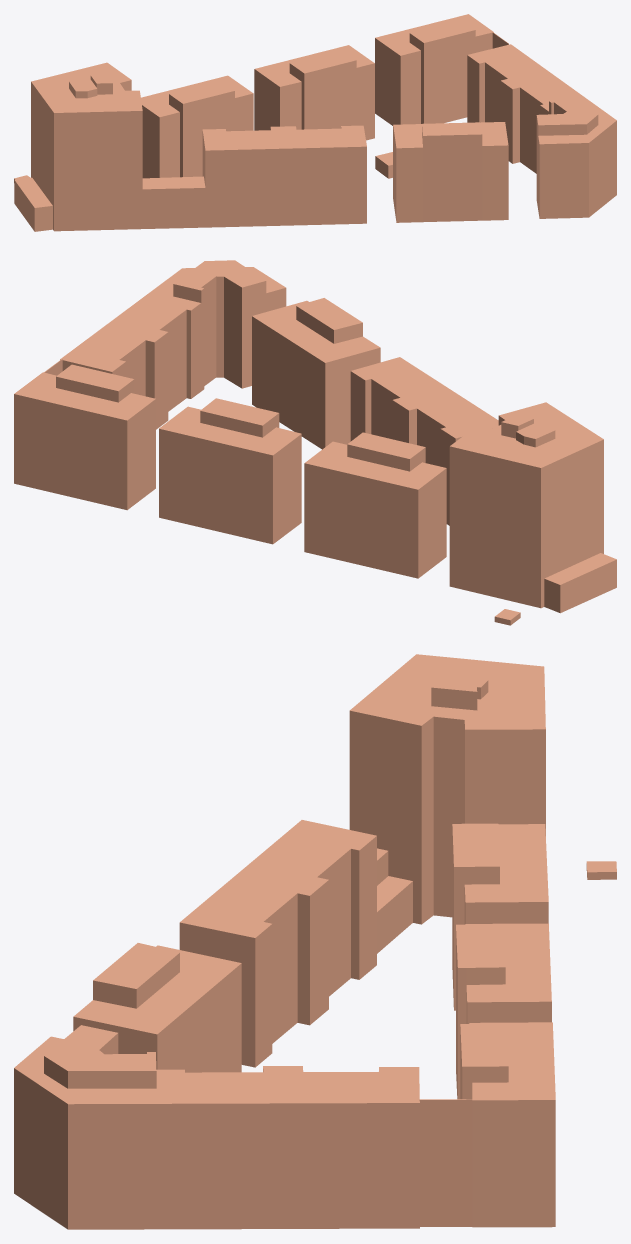
3 renders of one model, top to bottom at view 1: azimuth 30°, elevation 25°; view 2: azimuth 150°, elevation 25°; view 3: azimuth 270°, elevation 25°, orthographic. The views are drawn at different scales.
Parts seen in each view (by area): view 1: test1; view 2: test1; view 3: test1.
Boxes of the visible parts, x1=… form: test1: x1=14, y1=14, x2=616, y2=231; test1: x1=14, y1=260, x2=616, y2=625; test1: x1=14, y1=654, x2=616, y2=1229.
Size of the model in its own units: 39.28 by 10.23 by 25.72.
